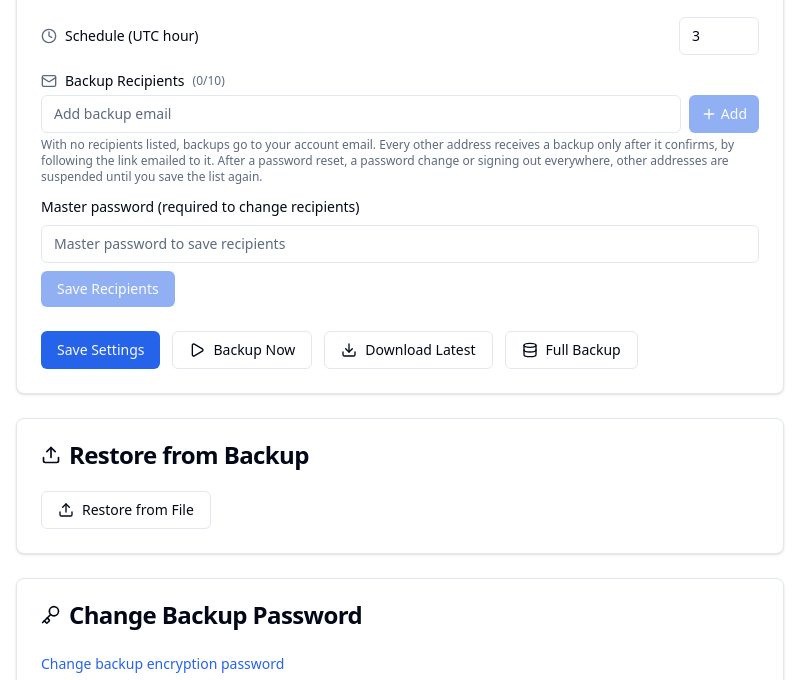
Test: the Full Backup panel › derives the signing key, zeroes the wrapping key and clears the password at Continue
(page scrolled)
Expected: the button "Restore from File" is shown, [41,491,211,529]
Click the button "Full Backup" at (571, 350), box [504,331,638,369]
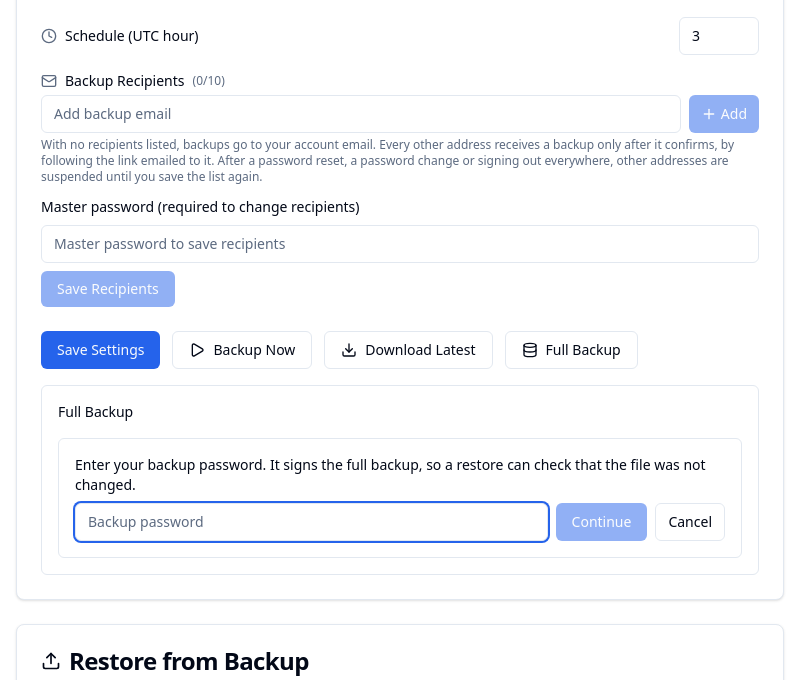
Type "BackupPass!" into the password field named "Backup password for the full backup" at (311, 522), box [75,503,548,541]
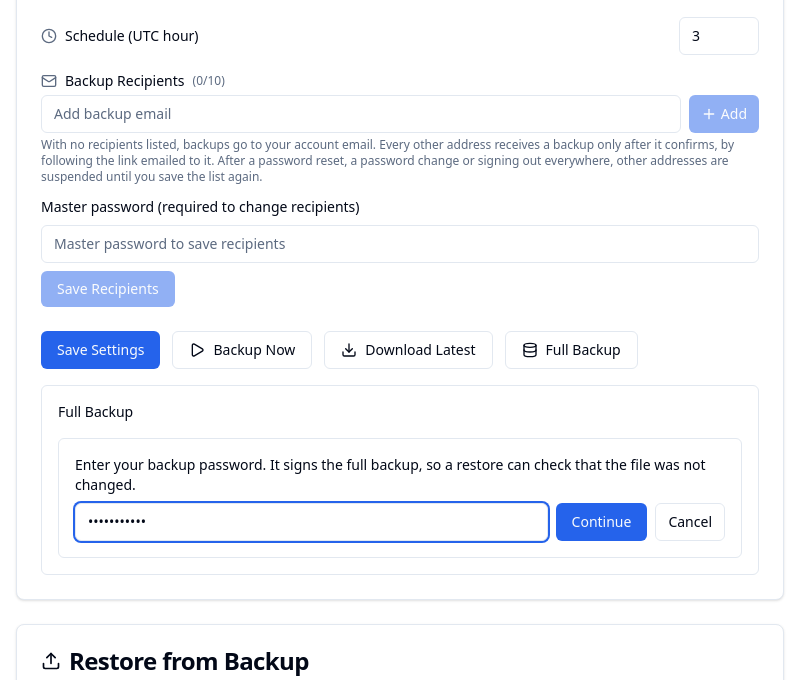
Click the button "Continue" at (602, 522), box [556,503,647,541]
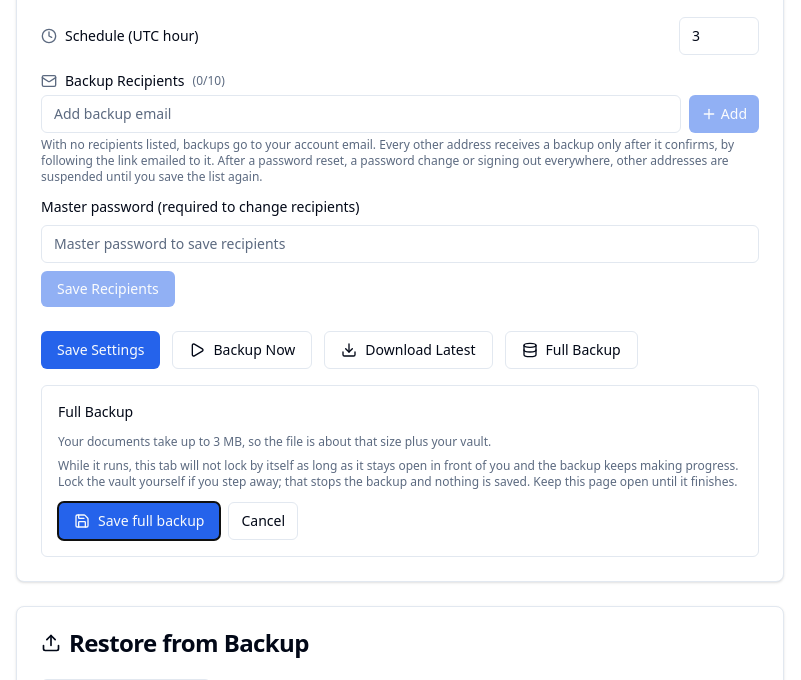
Expected: the text "Your documents take up to 3 MB" is shown, [58,433,491,450]
Expected: the text "this tab will not lock by itself" is shown, [58,457,738,490]
